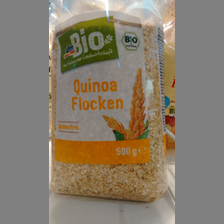cereal: (51, 13, 170, 202)
